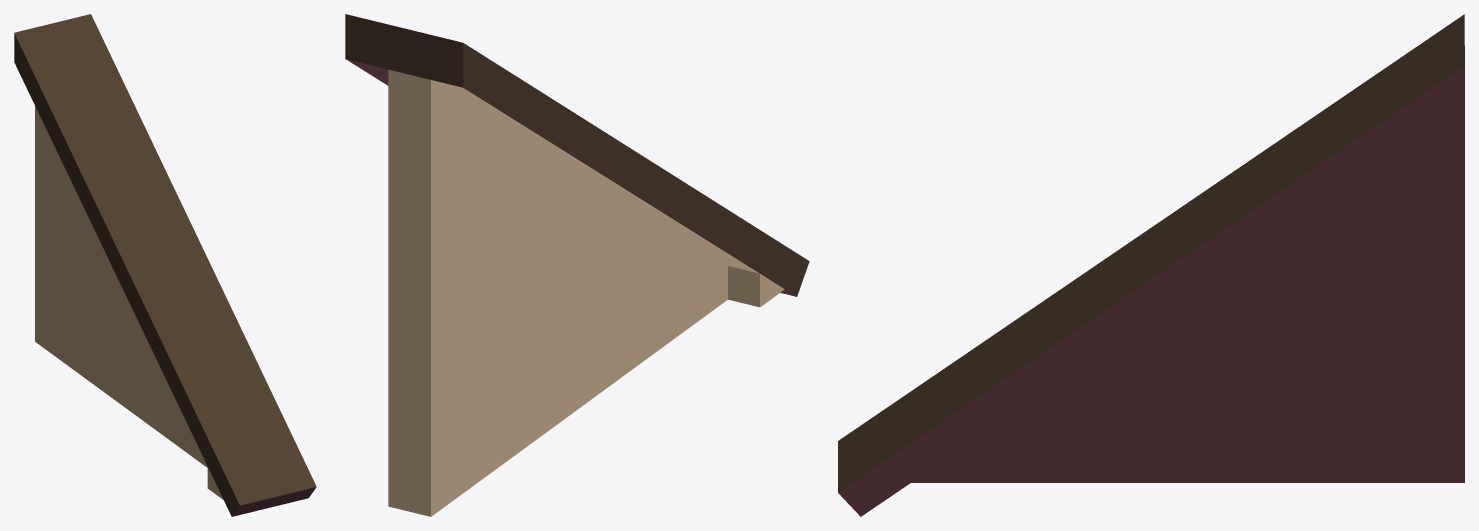
The model's file is buildings-house-roof-edge-1x3m.glb.
3 views of the same model, side by side, from view 1: azimuth 30°, elevation 25°; view 2: azimuth 150°, elevation 25°; view 3: azimuth 270°, elevation 25° (orthographic). The views are drawn at different scales.
Visible parts, largest first — view 1: house-roof-edge-1x3m; view 2: house-roof-edge-1x3m; view 3: house-roof-edge-1x3m.
Part boxes in pixels (x1,y1,x2,y2): house-roof-edge-1x3m: (14, 14, 316, 516); house-roof-edge-1x3m: (345, 14, 809, 516); house-roof-edge-1x3m: (838, 14, 1464, 516).
Size of the model in its own units: 1.1 by 4.45 by 5.6.
